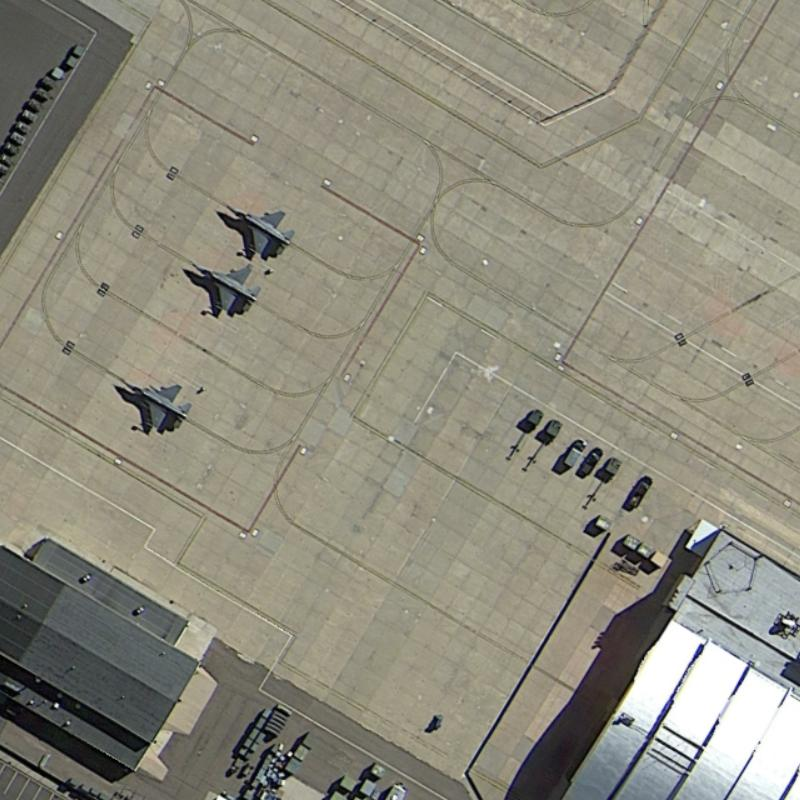A5: (114, 369, 196, 438), (218, 193, 298, 263), (187, 255, 264, 320)
